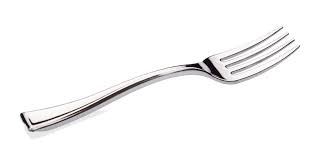fork: (17, 22, 303, 137)
